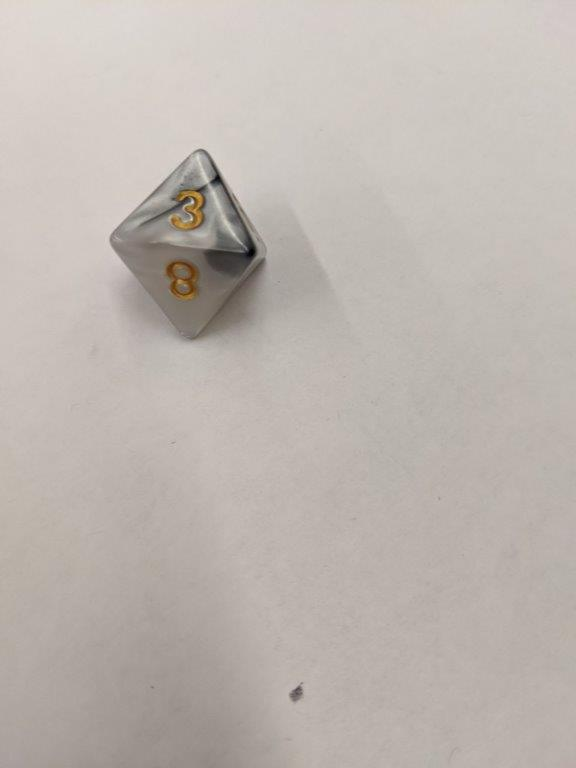d8-3: (105, 148, 267, 344)
